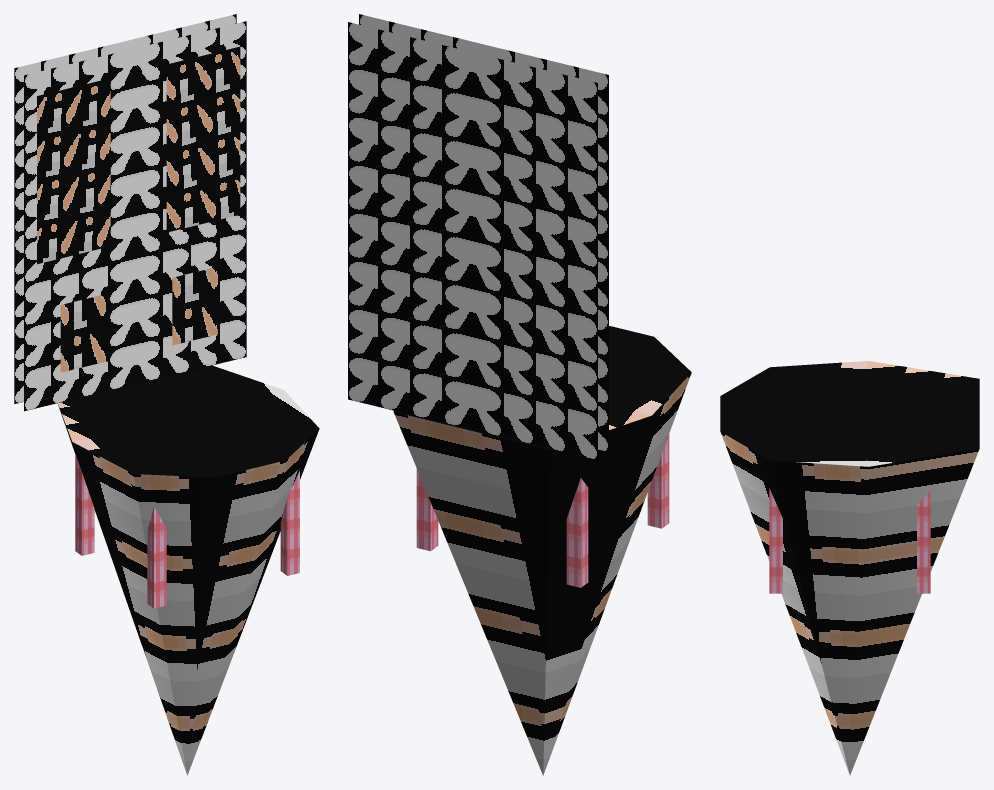
File: 3839kg3_ser20.gltf
The picture shows the model from 3 angles, left to right: view 1: azimuth 30°, elevation 25°; view 2: azimuth 150°, elevation 25°; view 3: azimuth 270°, elevation 25°; orthographic projection. The views are drawn at different scales.
Visible parts, largest first — view 1: 3839kg3_ser20; view 2: 3839kg3_ser20; view 3: 3839kg3_ser20.
Boxes of the visible parts, bbox=[...] form: 3839kg3_ser20: bbox=[14, 14, 319, 775]; 3839kg3_ser20: bbox=[348, 14, 691, 775]; 3839kg3_ser20: bbox=[720, 361, 979, 775].
Bounding box in the file's own units: 0.7344 × 2.17 × 0.7231.
3 materials, 3 textured.
